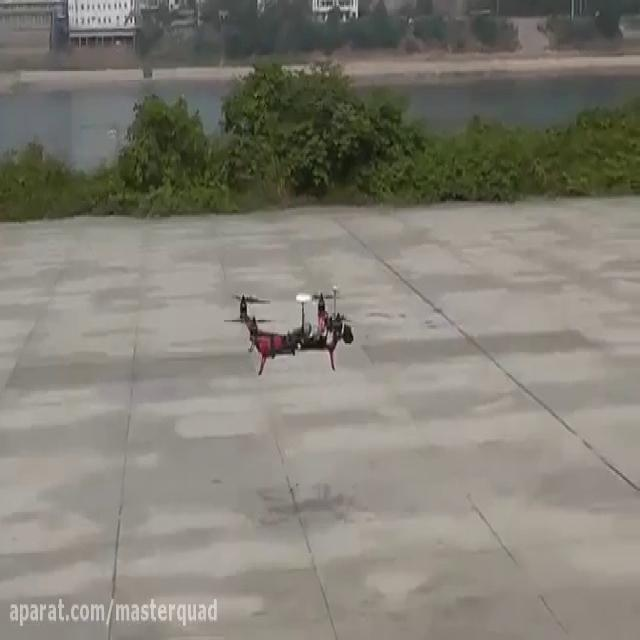drone: (218, 279, 357, 377)
